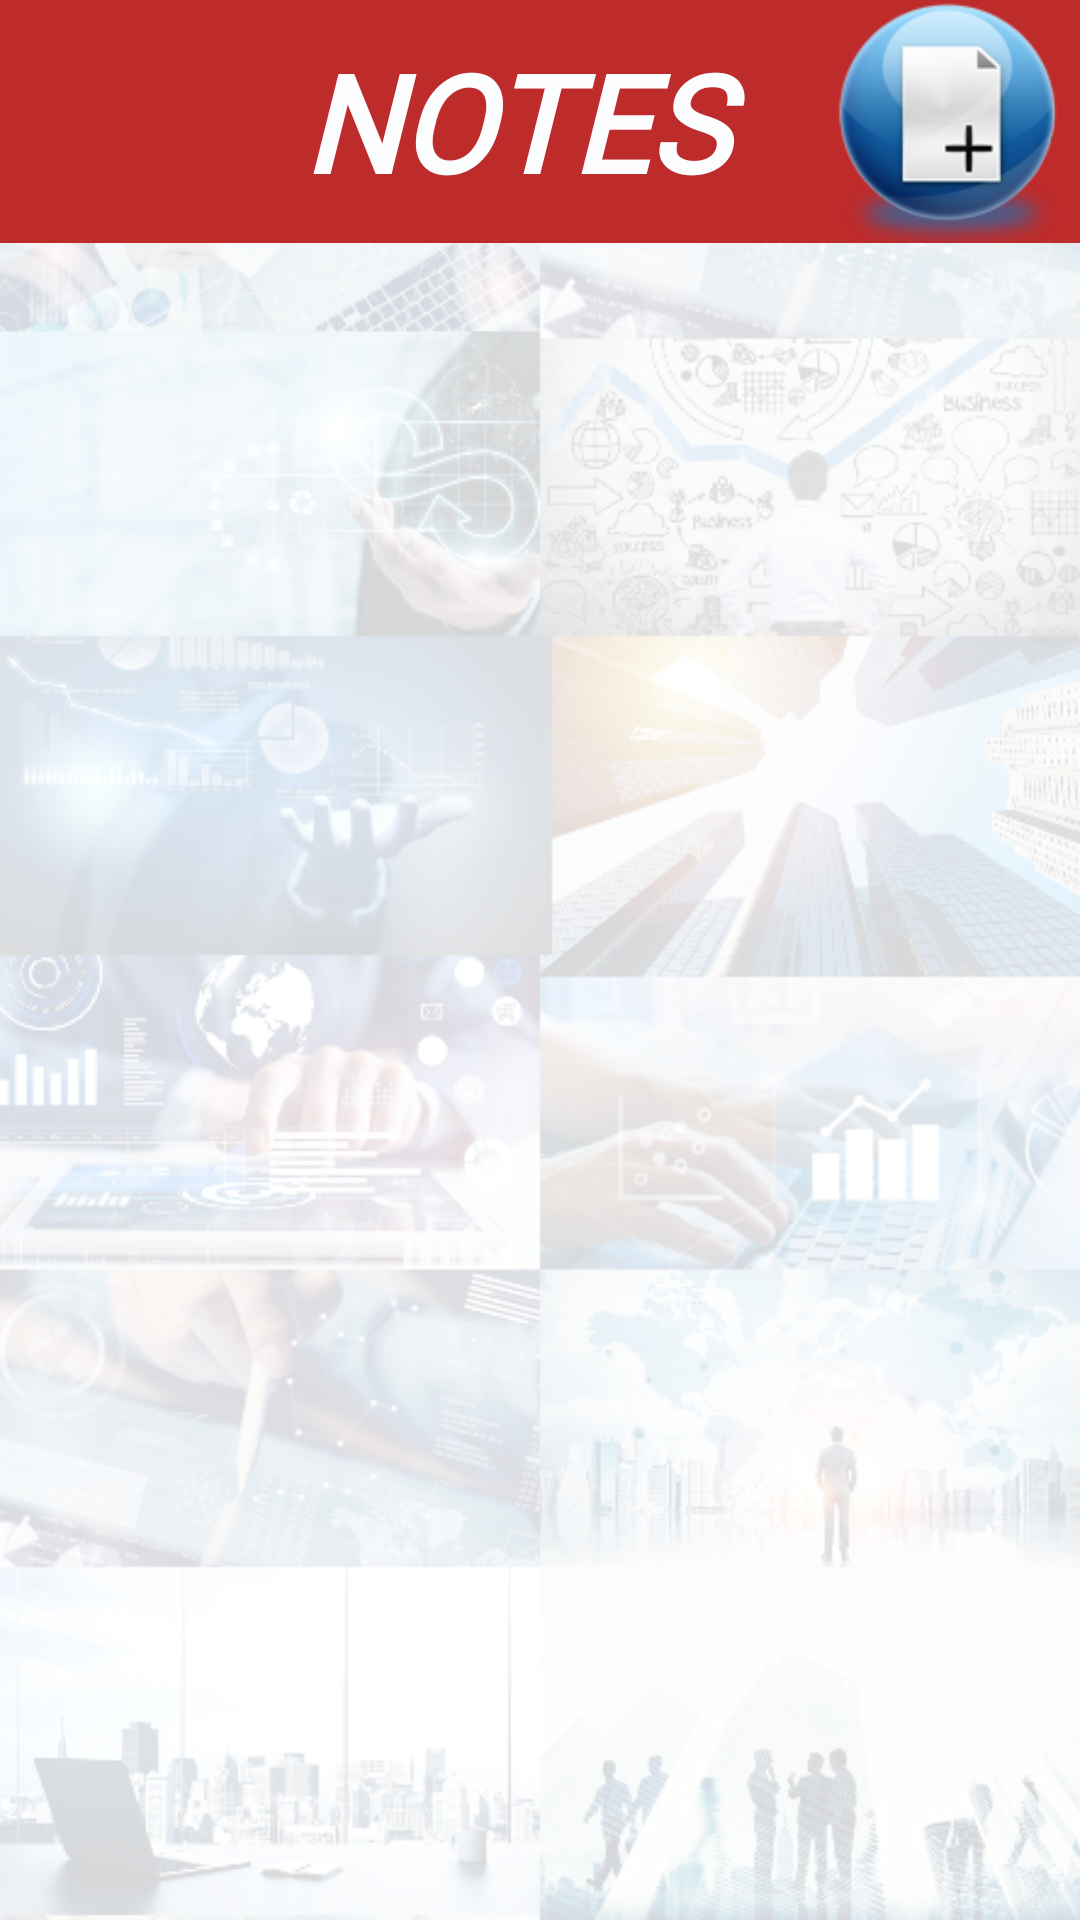

Named icons in this screenshot (1080x1920) and their bounding boxes, (x1=x1, y1=y1, x2=x2, y2=y2):
add: (x1=839, y1=3, x2=1056, y2=237)
